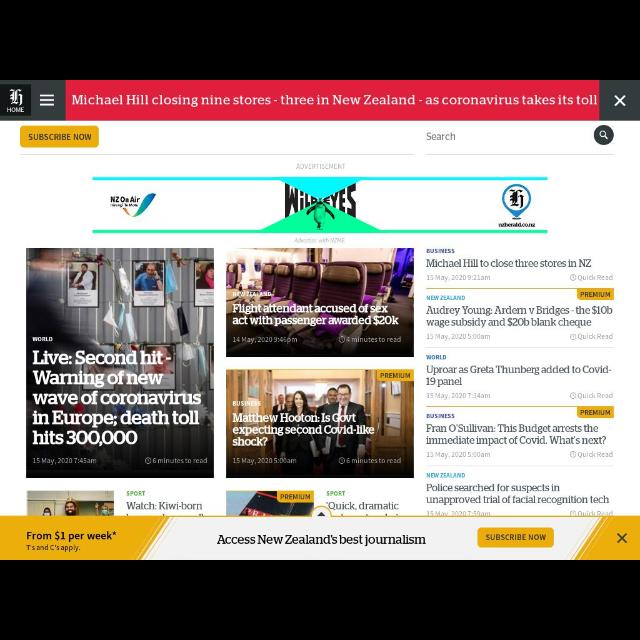icon: (592, 127, 614, 145), (40, 94, 56, 108)
iframe: (86, 162, 556, 242), (1, 517, 639, 559), (67, 80, 639, 120)
image: (27, 247, 215, 478), (227, 246, 415, 356), (226, 370, 414, 478), (27, 492, 114, 516), (227, 494, 315, 516), (5, 84, 29, 116)
input: (420, 126, 614, 156)
text: (425, 348, 619, 404), (426, 411, 618, 465), (424, 292, 618, 344), (426, 471, 620, 517), (424, 248, 614, 284), (124, 490, 210, 518), (322, 491, 406, 515), (24, 130, 92, 142), (424, 129, 460, 143)
textbutton: (20, 125, 98, 148)
toolbar: (1, 82, 640, 118)
